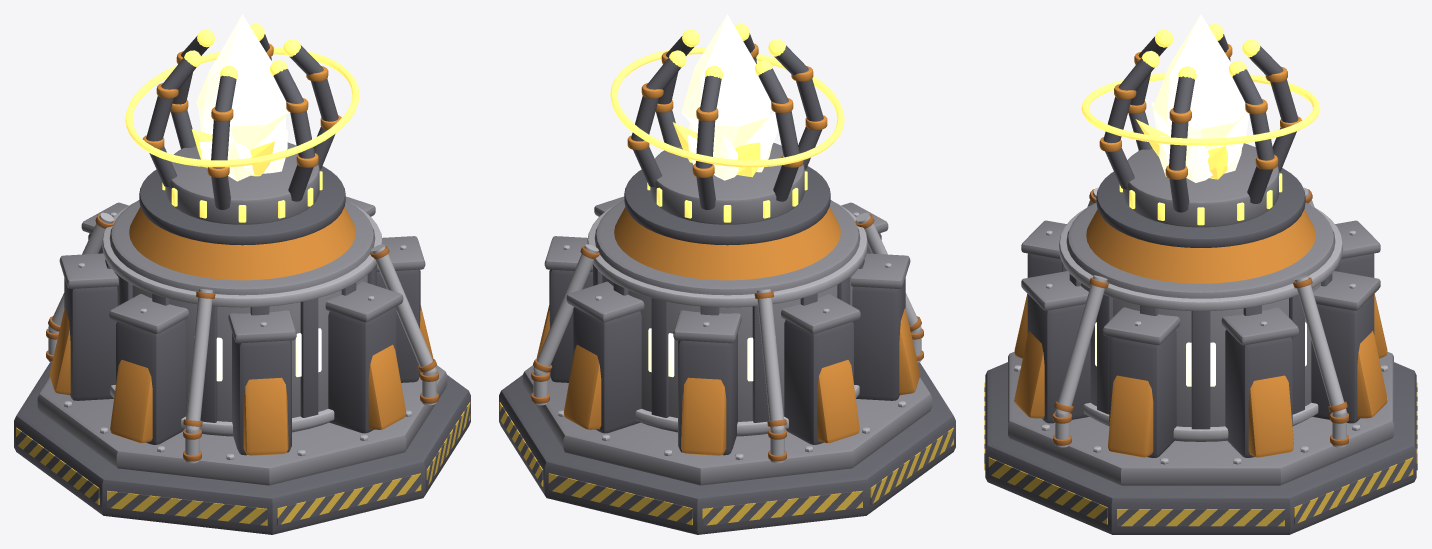
The model's file is Core.glb.
3 views of the same model, side by side, from view 1: azimuth 30°, elevation 25°; view 2: azimuth 150°, elevation 25°; view 3: azimuth 270°, elevation 25° (orthographic).
Visible parts, largest first — view 1: Core; view 2: Core; view 3: Core.
Part boxes in pixels (bbox=[...]): Core: bbox=[14, 14, 470, 534]; Core: bbox=[499, 14, 955, 534]; Core: bbox=[984, 14, 1417, 534].
Bounding box in the file's own units: 2.32 × 2.56 × 2.32.
